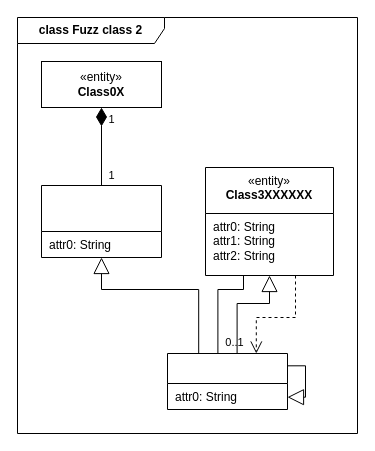
This 375x451 diagram has some shape labels left out. The box of each missing label's shape, as (x1, y1, x2, y2) in pixels:
Class2: (166, 352, 288, 410)
«entity» Class1XXXX: (40, 184, 162, 258)
